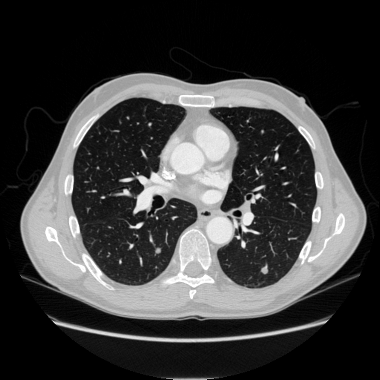nodule: (260, 266, 268, 274)
